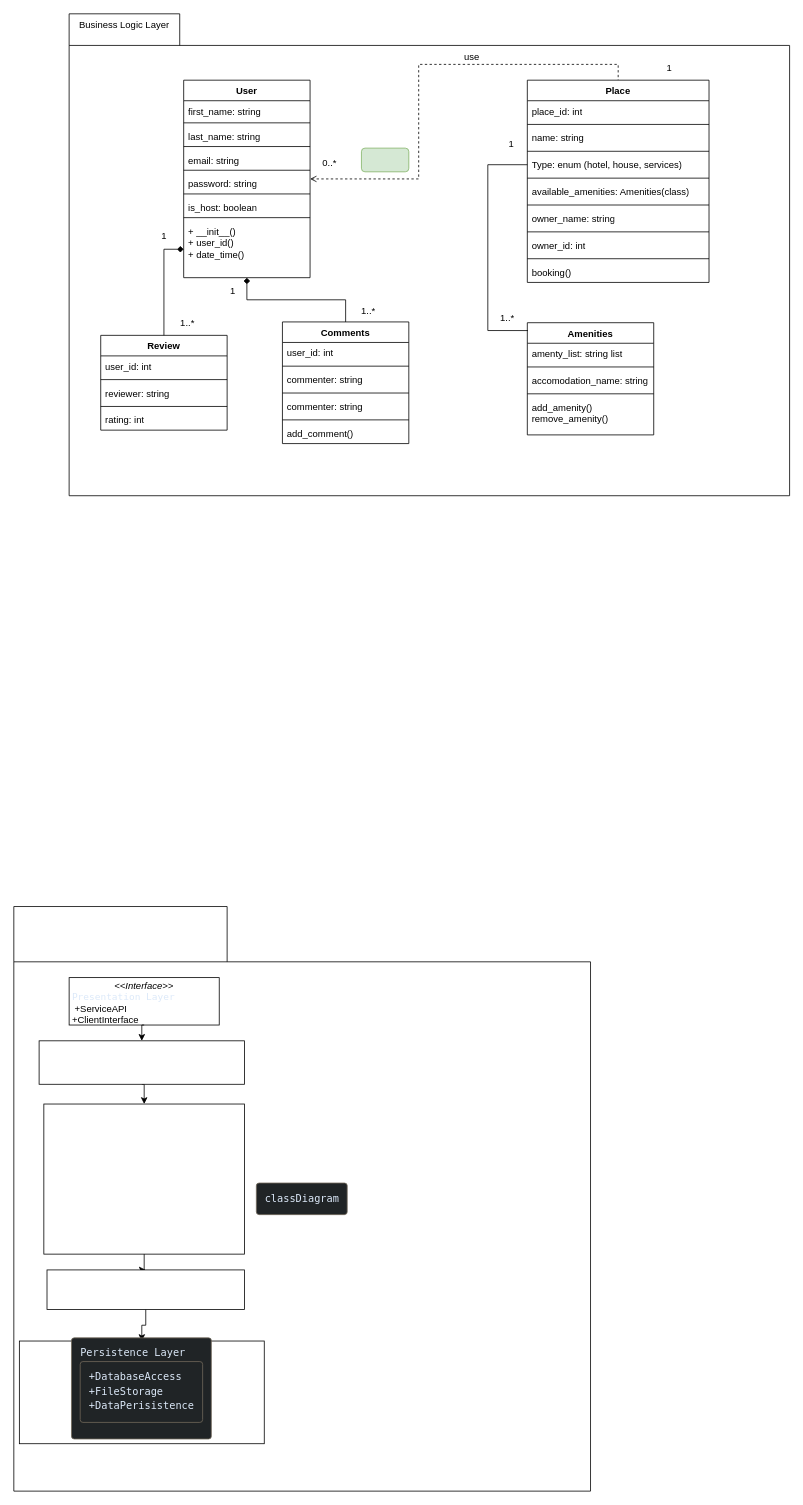
This 803x1505 diagram has some shape labels left out. The centre of each missing label's shape, as x and y in pixels:
Business Logic Layer + ModelClasses +User +Review +Amenities +Place +Comments: the point at 144,1178
Database Operations: the point at 145,1289
Facade Pattern: the point at 141,1062
if host: the point at 385,159
